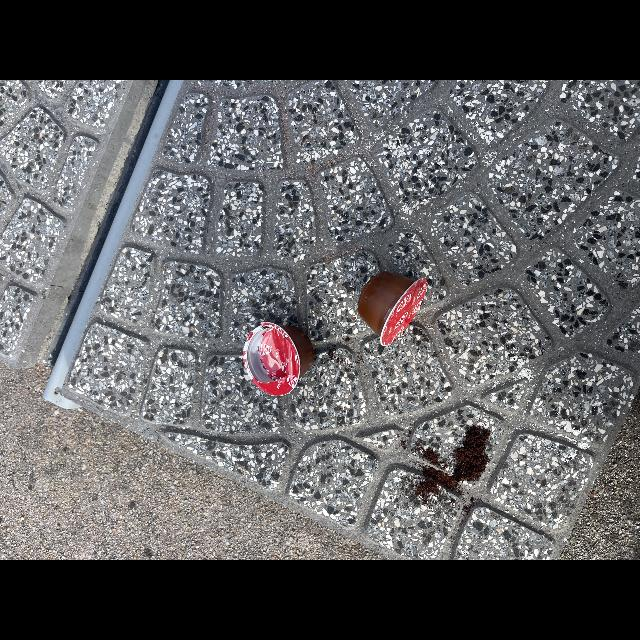damaged_capsule: (237, 312, 319, 410)
intact_capsule: (350, 262, 442, 351)
